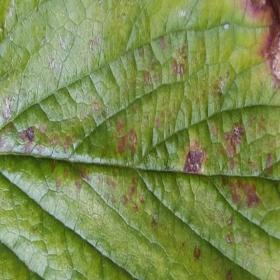Angular Leafspot: (0, 0, 279, 279)
